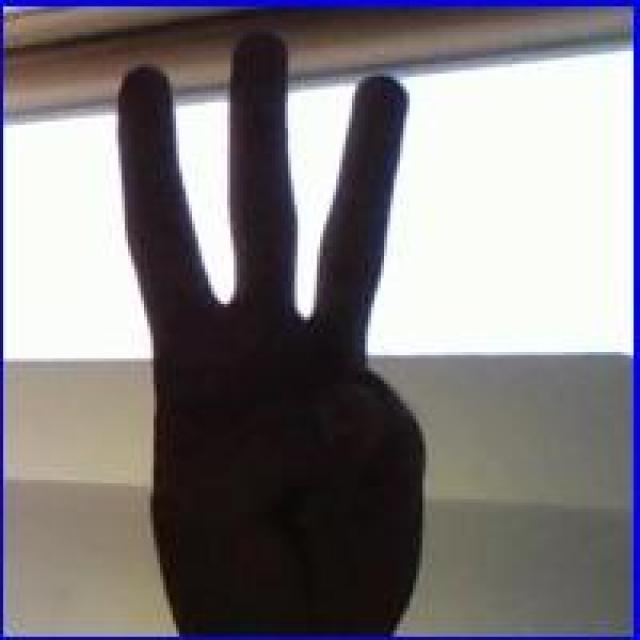W: (112, 27, 426, 629)
